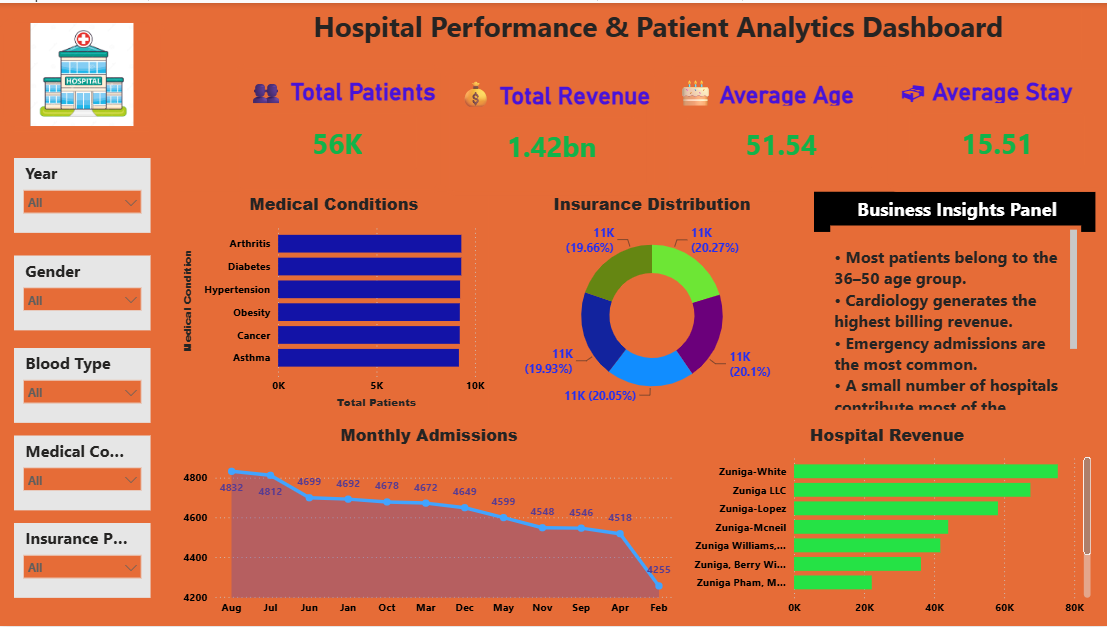

The dashboard page shown, as its layout file describes it:
{"tool":"powerbi","page":{"name":"Page 1","canvas":[1280,720],"ordinal":0},"visuals":[{"type":"textbox","box":[940.7,217.9,324.6,46.2],"z":0},{"type":"textbox","box":[272.7,0,976.7,66.4],"z":1000},{"type":"clusteredBarChart","title":"Medical Conditions","fields":{"Category":["healthcare_dataset.Medical Condition"],"Y":["Date Table.Total Patients"]},"box":[207.8,217.9,357.8,256.8],"z":2000},{"type":"lineChart","title":"Monthly Admissions","fields":{"Category":["Date Table.Month"],"Y":["Date Table.Total Patients"]},"box":[207.8,484.8,577.1,230.8],"z":3000},{"type":"barChart","title":"Hospital Revenue","fields":{"Category":["healthcare_dataset.Hospital"],"Y":["Date Table.Total Revenue"]},"box":[784.9,484.8,480.4,230.8],"z":4000},{"type":"donutChart","title":"Insurance Distribution","fields":{"Category":["healthcare_dataset.Insurance Provider"],"Y":["Date Table.Total Patients"]},"box":[590.1,217.9,327.5,259.7],"z":5000},{"type":"slicer","fields":{"Values":["Date Table.Year"]},"box":[17.3,178.9,157.3,86.6],"z":6000},{"type":"slicer","fields":{"Values":["healthcare_dataset.Gender"]},"box":[17.3,291.4,157.3,86.6],"z":7000},{"type":"slicer","fields":{"Values":["healthcare_dataset.Medical Condition"]},"box":[17.3,499.2,157.3,86.6],"z":8000},{"type":"slicer","fields":{"Values":["healthcare_dataset.Insurance Provider"]},"box":[17.3,600.2,157.3,86.6],"z":9000},{"type":"textbox","box":[959.4,256.8,290,217.9],"z":10000},{"type":"cardVisual","title":"💰 Total Revenue","fields":{"Data":["Date Table.Total Revenue"]},"box":[515.1,75,246.7,147.2],"z":11000},{"type":"cardVisual","title":"🎂 Average Age","fields":{"Data":["Date Table.Average Age"]},"box":[769,73.6,268.4,142.8],"z":12000},{"type":"cardVisual","title":"🛏 Average Stay","fields":{"Data":["Date Table.Average Stay"]},"box":[1025.8,70.7,253.9,147.2],"z":13000},{"type":"cardVisual","title":"👥 Total Patients","fields":{"Data":["Date Table.Total Patients"]},"box":[272.7,70.7,236.6,148.6],"z":14000},{"type":"image","box":[0,17.3,191.9,131.3],"z":15000},{"type":"slicer","fields":{"Values":["healthcare_dataset.Blood Type"]},"box":[17.3,398.2,157.3,86.6],"z":15001}]}

Visuals, with their boxes in screenshot pixels (x1, y1, x2, y2), scaled from the page's 1280x720 canvas onto the 1107x627 screenshot:
textbox: pyautogui.locateOnScreen(814, 190, 1094, 230)
textbox: pyautogui.locateOnScreen(236, 0, 1081, 58)
"Medical Conditions" clusteredBarChart: pyautogui.locateOnScreen(180, 190, 489, 413)
"Monthly Admissions" lineChart: pyautogui.locateOnScreen(180, 422, 679, 623)
"Hospital Revenue" barChart: pyautogui.locateOnScreen(679, 422, 1094, 623)
"Insurance Distribution" donutChart: pyautogui.locateOnScreen(510, 190, 794, 416)
slicer - Date Table.Year: pyautogui.locateOnScreen(15, 156, 151, 231)
slicer - healthcare_dataset.Gender: pyautogui.locateOnScreen(15, 254, 151, 329)
slicer - healthcare_dataset.Medical Condition: pyautogui.locateOnScreen(15, 435, 151, 510)
slicer - healthcare_dataset.Insurance Provider: pyautogui.locateOnScreen(15, 523, 151, 598)
textbox: pyautogui.locateOnScreen(830, 224, 1081, 413)
"💰 Total Revenue" cardVisual: pyautogui.locateOnScreen(445, 65, 659, 193)
"🎂 Average Age" cardVisual: pyautogui.locateOnScreen(665, 64, 897, 188)
"🛏 Average Stay" cardVisual: pyautogui.locateOnScreen(887, 62, 1106, 190)
"👥 Total Patients" cardVisual: pyautogui.locateOnScreen(236, 62, 440, 191)
image: pyautogui.locateOnScreen(0, 15, 166, 129)
slicer - healthcare_dataset.Blood Type: pyautogui.locateOnScreen(15, 347, 151, 422)
